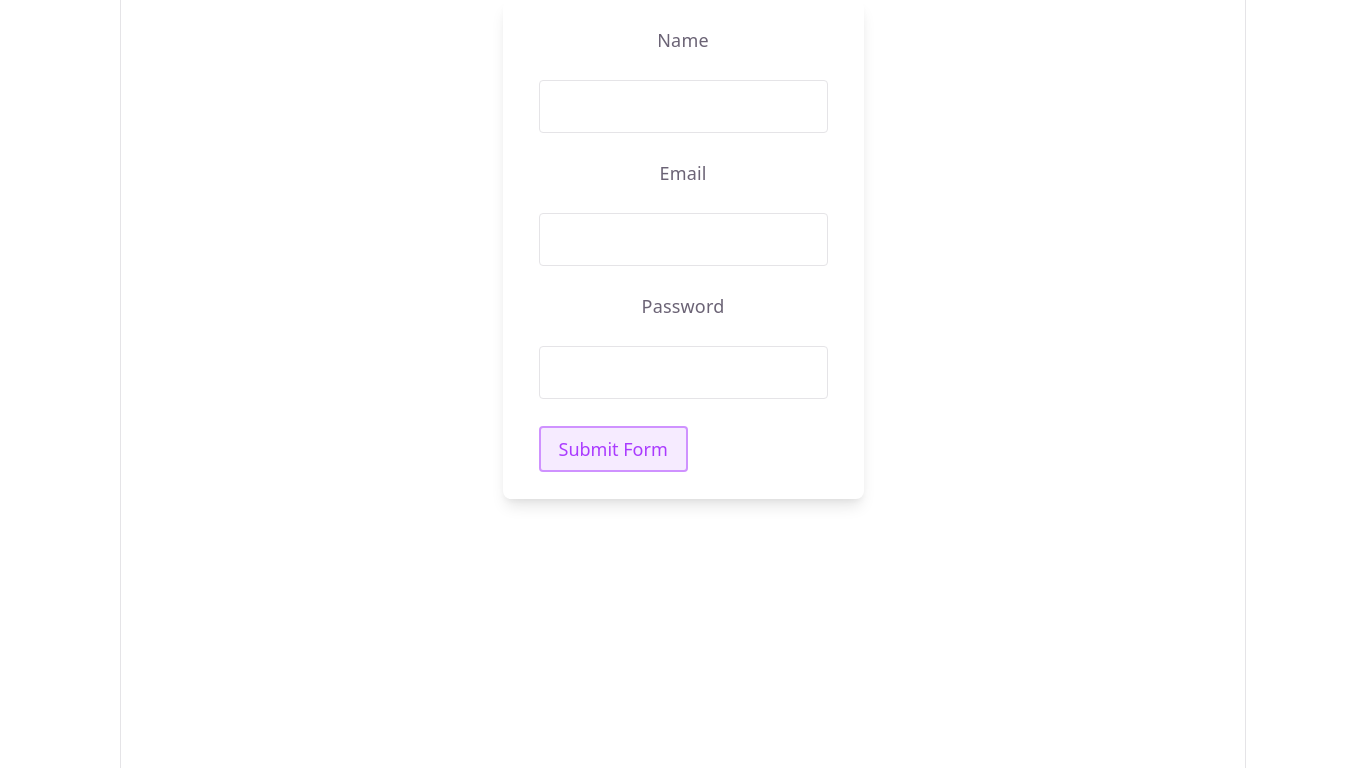
SignupFormPractice › empty submit shows validation errors
What coordinates should you click on to do the following:
click the button "Submit Form"
I would click on:
 (613, 449)
Its box is x1=538 y1=426 x2=688 y2=472.
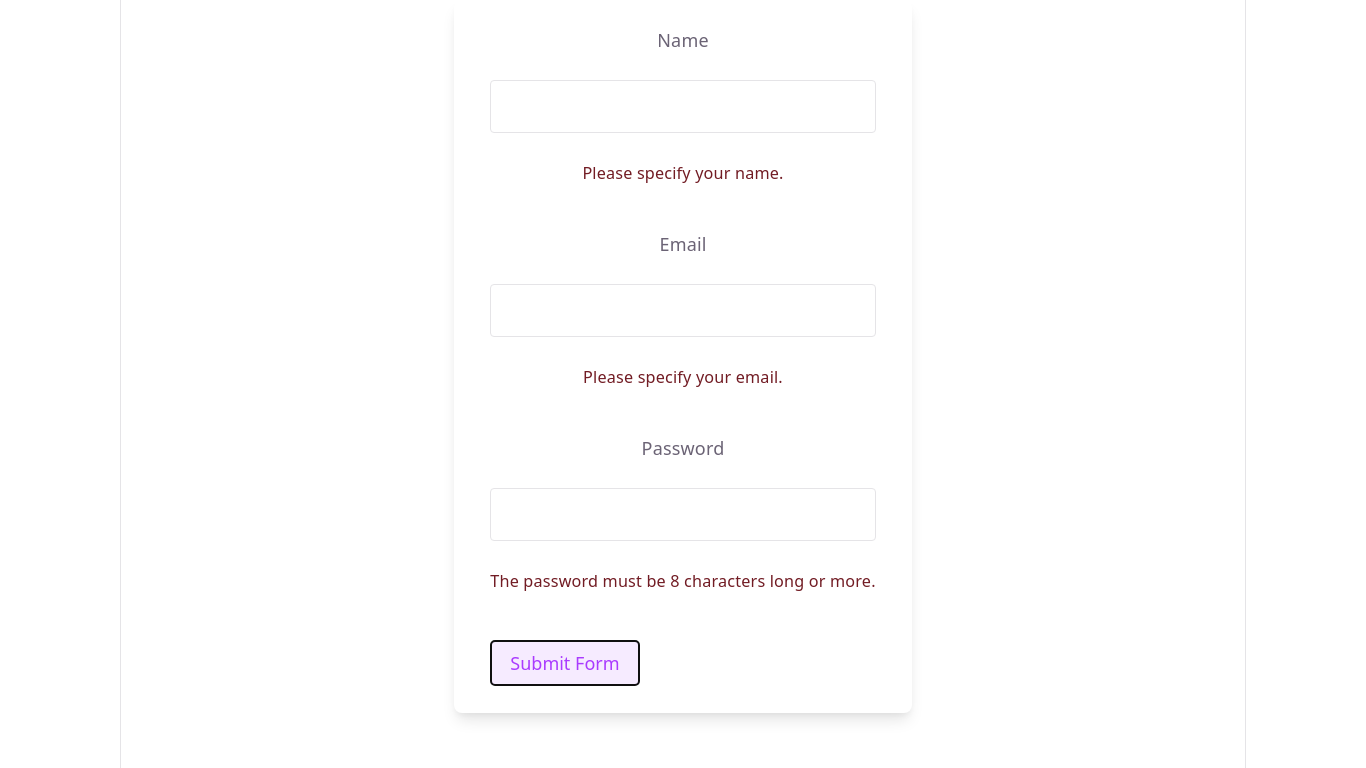
Expected: the text "Please specify your name." is shown, x1=582 y1=162 x2=784 y2=184
Expected: the text "Please specify your email." is shown, x1=583 y1=366 x2=783 y2=388
Expected: the text "The password must be 8 characters long or more." is shown, x1=490 y1=568 x2=876 y2=595
